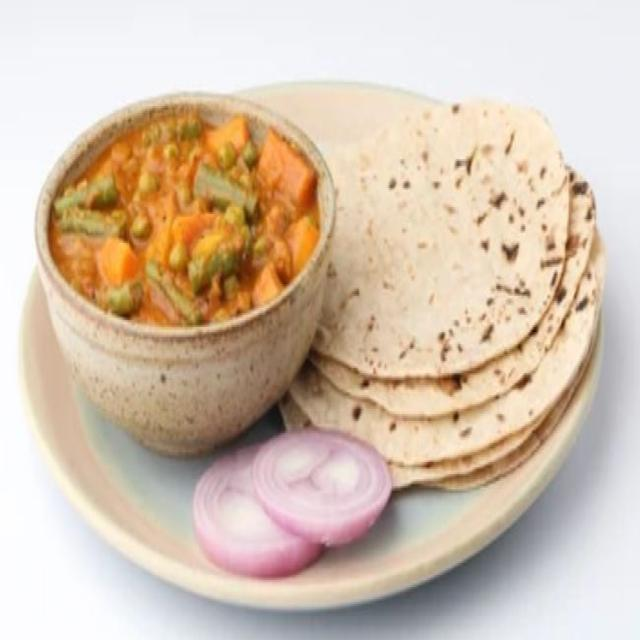CHAPATHI: (284, 105, 607, 476)
KURMA: (53, 108, 330, 330)
